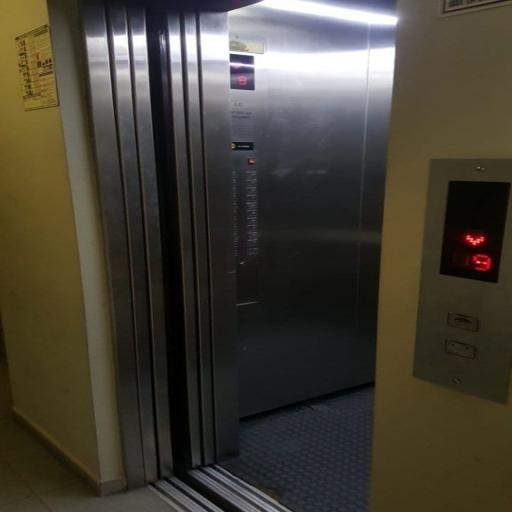closet: (86, 0, 396, 512)
